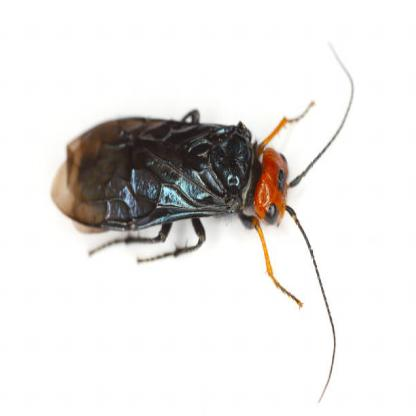sawfly: (46, 32, 354, 392)
